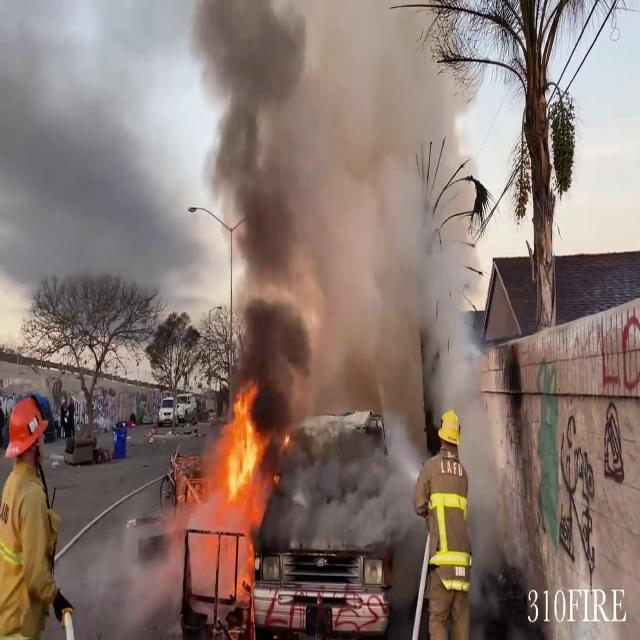Fire: (168, 384, 274, 614)
Smoke: (188, 1, 514, 540)
